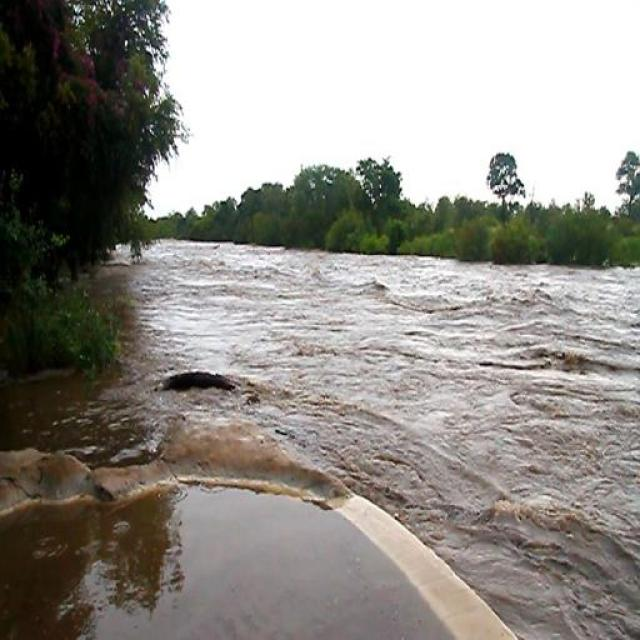puddle: (129, 247, 640, 443), (402, 387, 640, 640)
